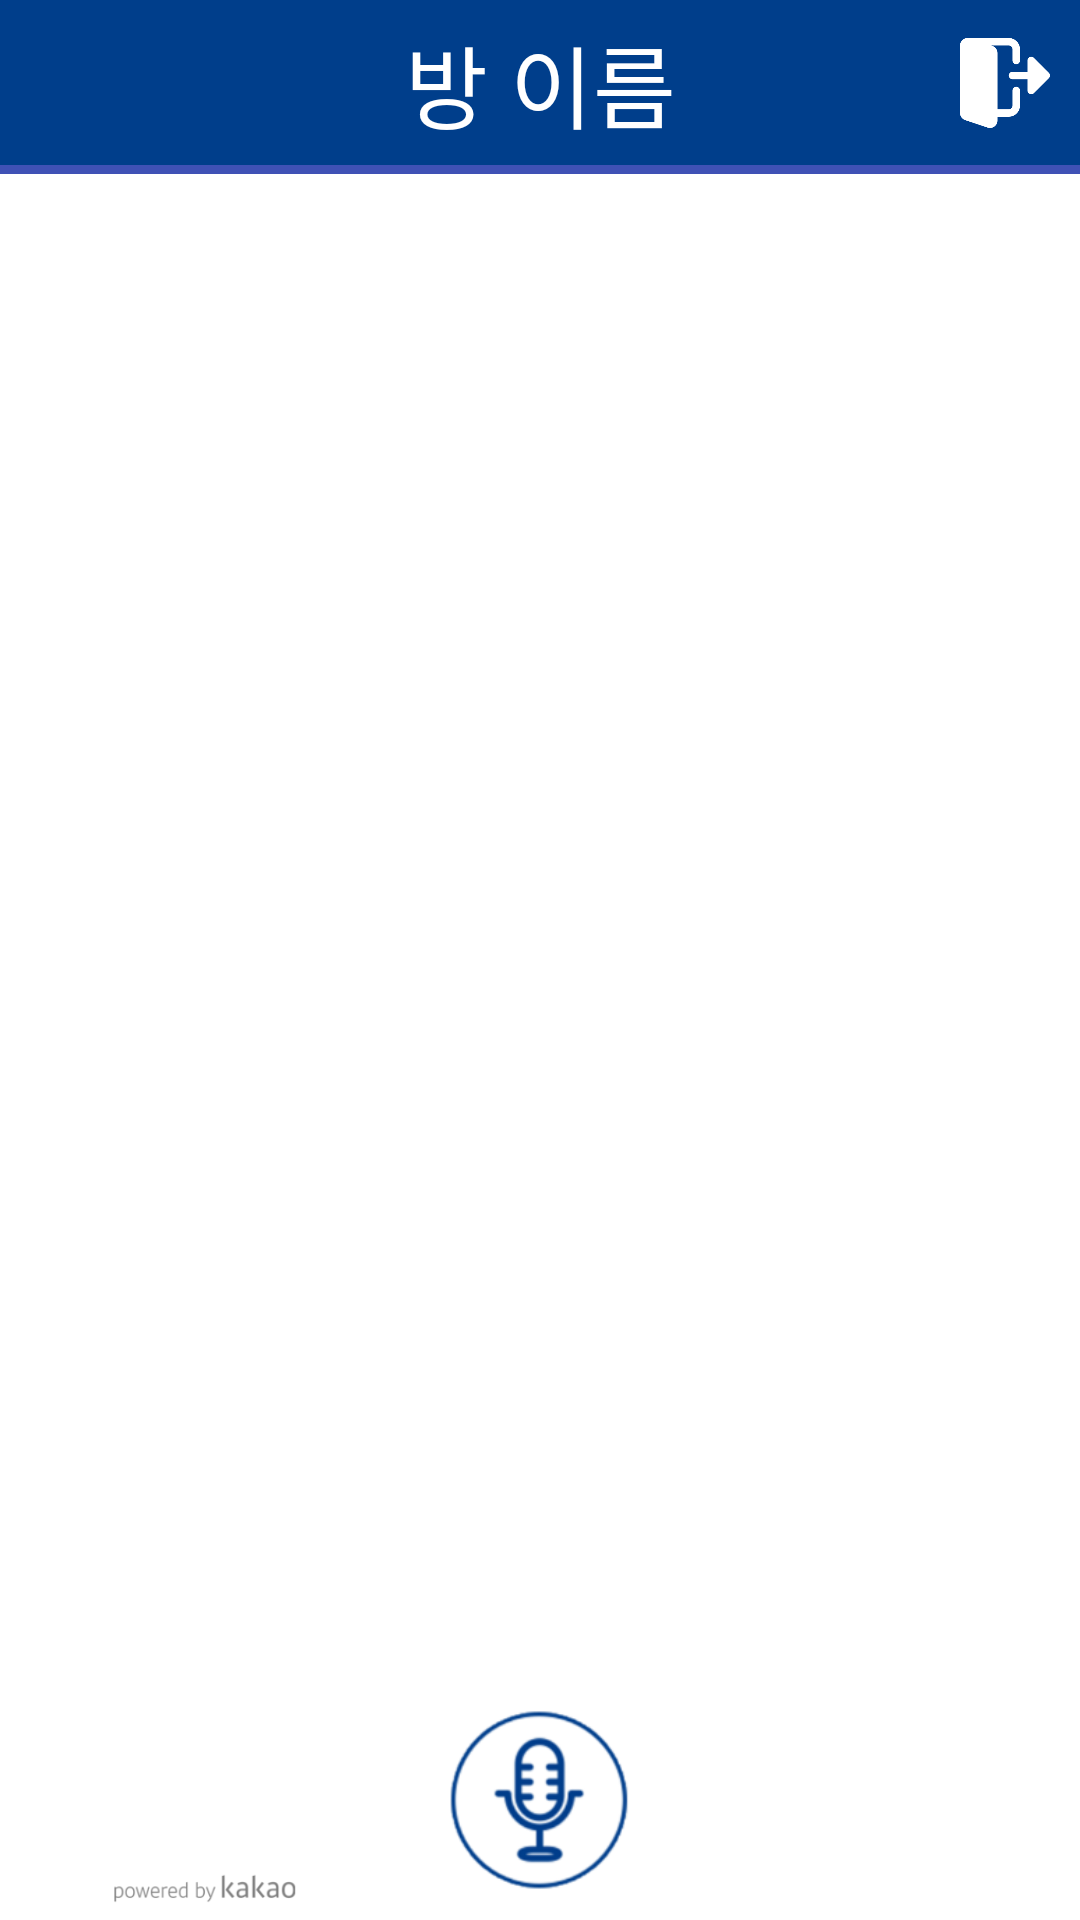

Where icons sit on this 1080*1920 app screen, as (x1, y1, x2, y2):
exit: (960, 38, 1050, 128)
